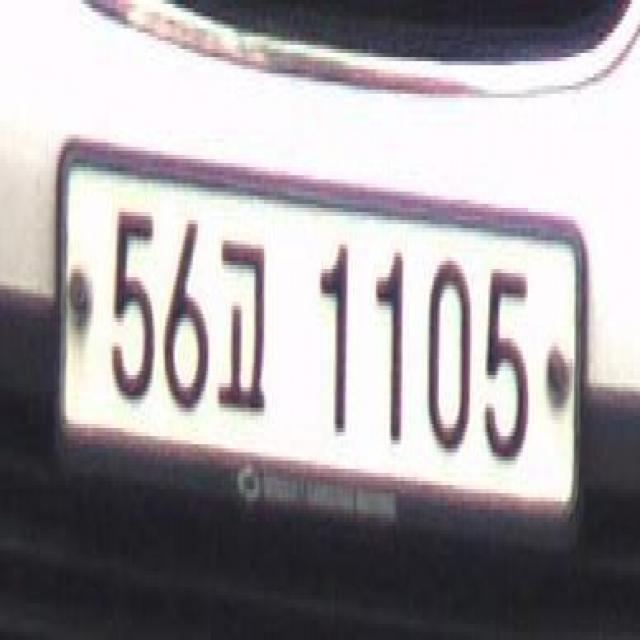0: (420, 246, 477, 454)
1: (366, 230, 409, 445), (314, 227, 355, 442)
5: (482, 258, 532, 468), (110, 198, 156, 399)
6: (161, 200, 209, 413)
go: (215, 217, 271, 418)
license_plate: (50, 112, 591, 544)
